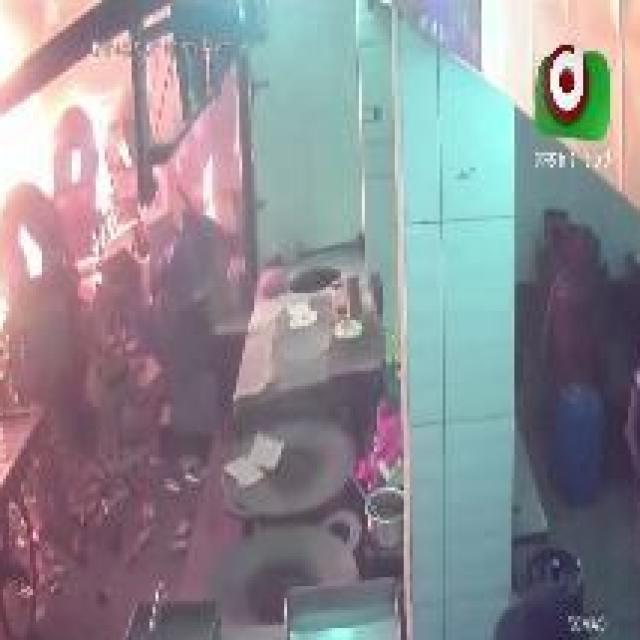smoke: (0, 0, 57, 323), (50, 84, 128, 210)
